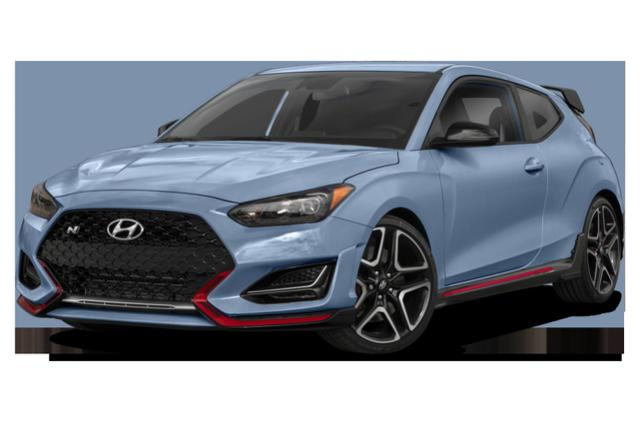hyundai: (14, 60, 626, 354)
